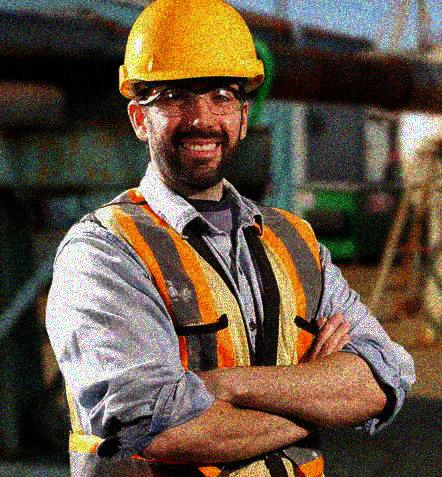helmet: (115, 1, 265, 190)
